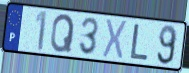1: (34, 9, 48, 52)
3: (77, 16, 100, 56)
9: (156, 23, 179, 67)
L: (129, 22, 150, 62)
Q: (49, 13, 76, 54)
X: (101, 18, 129, 62)
